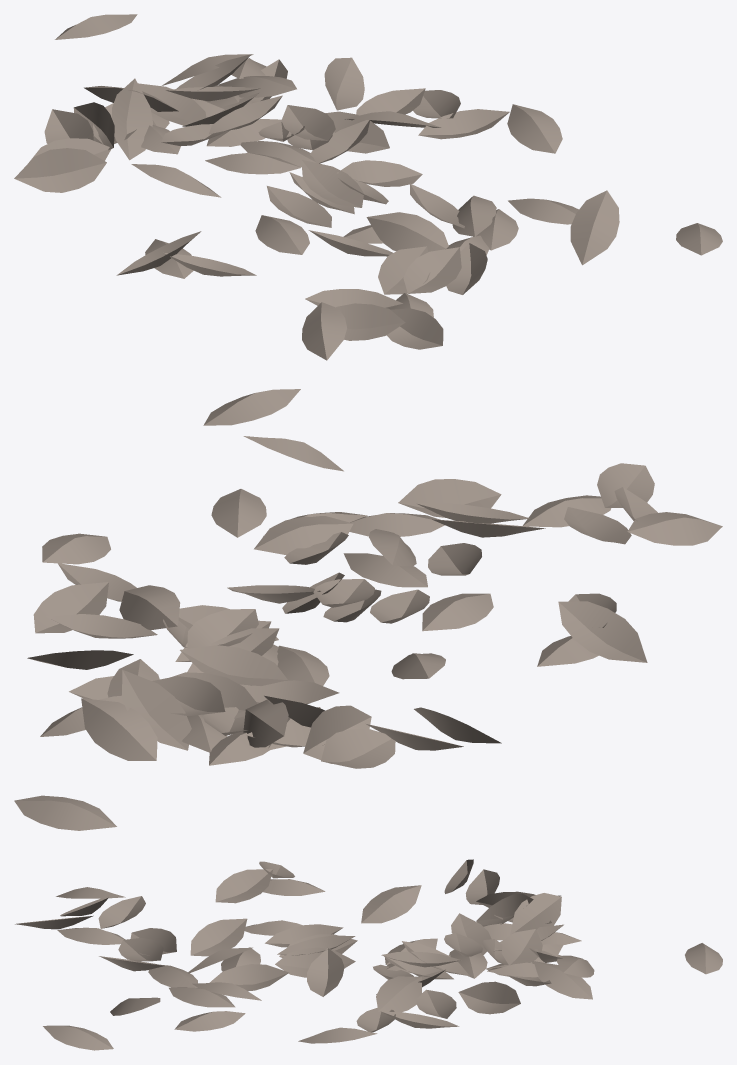
File: Leaf_Pile01.fbx
3 renders of one model, top to bottom at view 1: azimuth 30°, elevation 25°; view 2: azimuth 150°, elevation 25°; view 3: azimuth 270°, elevation 25°, orthographic. The views are drawn at different scales.
Visible parts, largest first — view 1: Leaf_Pile01; view 2: Leaf_Pile01; view 3: Leaf_Pile01.
Part boxes in pixels (bbox=[...]): Leaf_Pile01: bbox=[14, 14, 722, 360]; Leaf_Pile01: bbox=[14, 389, 722, 830]; Leaf_Pile01: bbox=[15, 859, 722, 1050].
Size of the model in its own units: 165 by 15.45 by 254.
